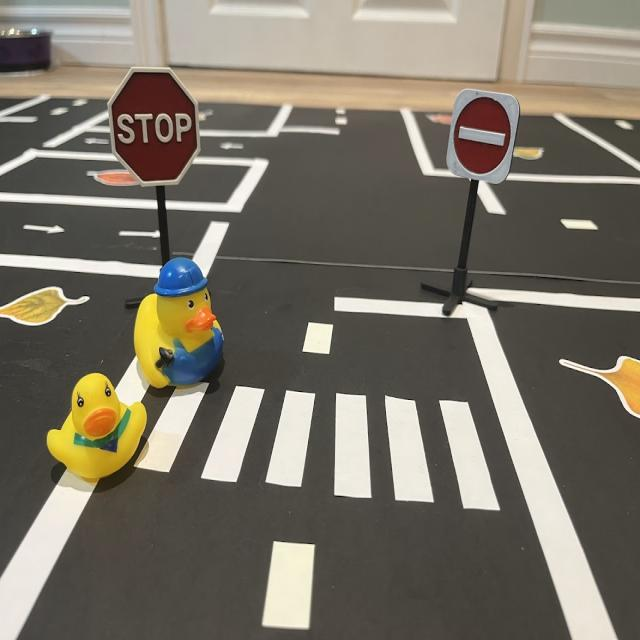duck_regular: (41, 370, 147, 483)
duck_specialty: (132, 254, 231, 390)
road_crosswalk: (122, 361, 511, 517)
road_oneway: (116, 221, 167, 250), (19, 217, 69, 240), (212, 139, 253, 155), (87, 134, 113, 151)
sign_noentry: (443, 86, 526, 193)
sign_stop: (109, 66, 203, 189)
